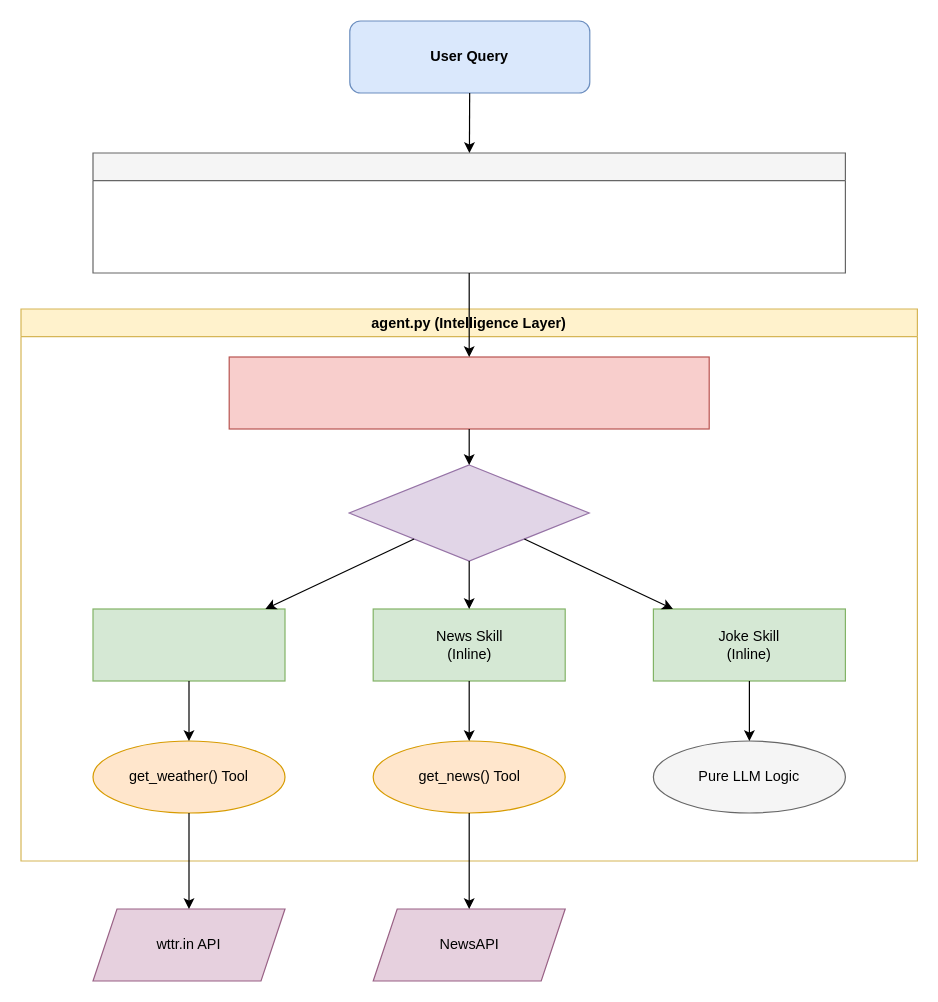
This 938x1002 diagram has some shape labels left out. Each missing label, with the centre of its shape:
"app.py (Execution Layer) - Runner - InMemorySessionService" goes at point (468, 212).
"root_agent (Agent) Gemini Orchestrator" goes at point (468, 392).
"SkillToolset (Router)" goes at point (468, 512).
"Weather Skill (File-Based)" goes at point (188, 644).
